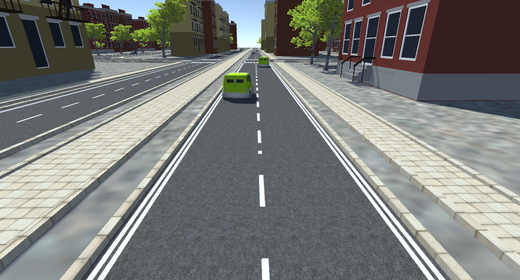centerstrip: (252, 82, 273, 277)
sidestripe: (280, 78, 446, 280), (80, 105, 215, 278), (93, 79, 142, 98)
